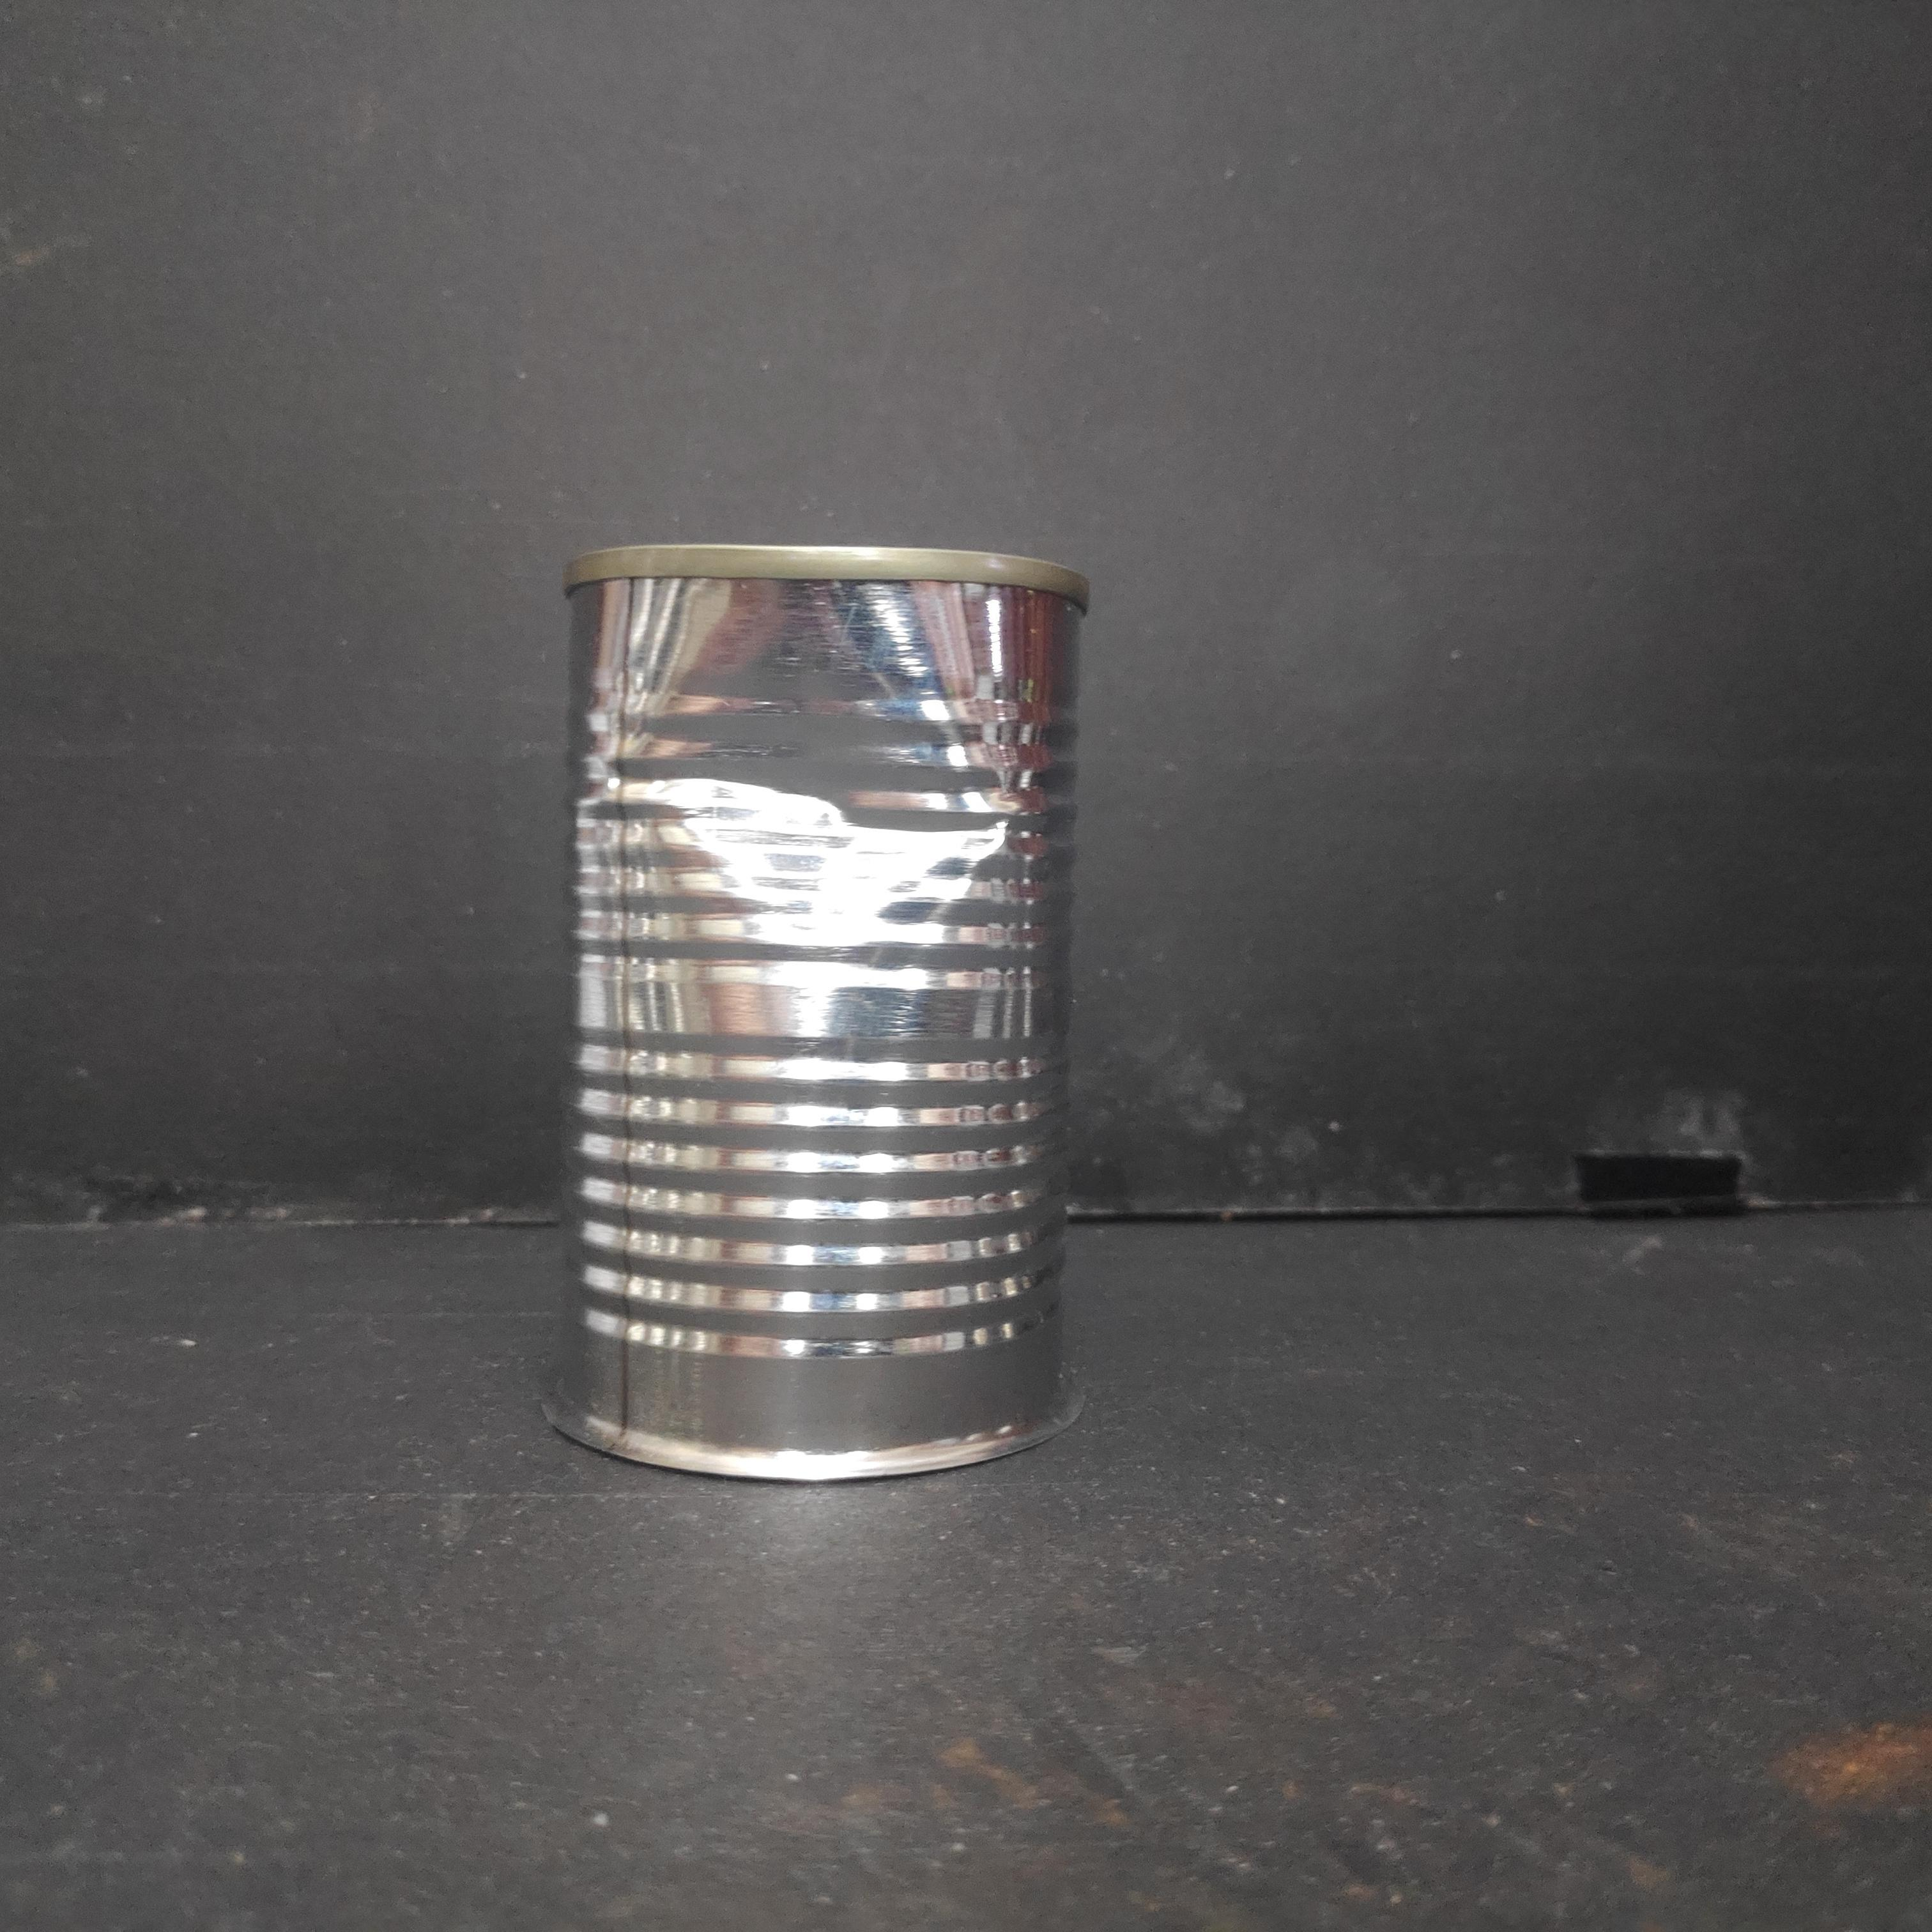Minor Defect: (554, 531, 1093, 1490)
